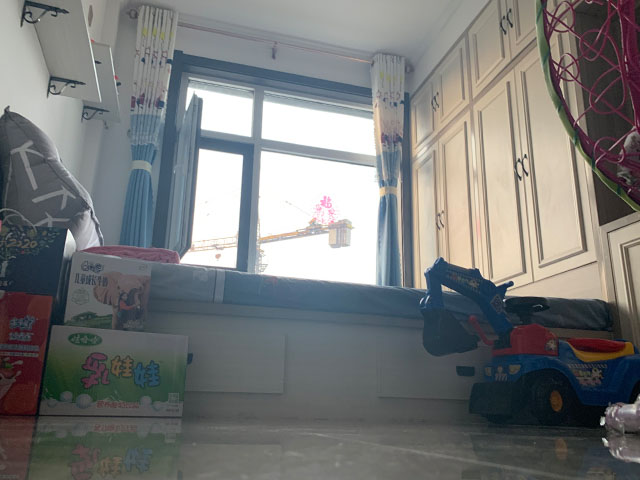bed: (61, 249, 616, 426)
curtain: (122, 6, 177, 247), (363, 47, 407, 289)
